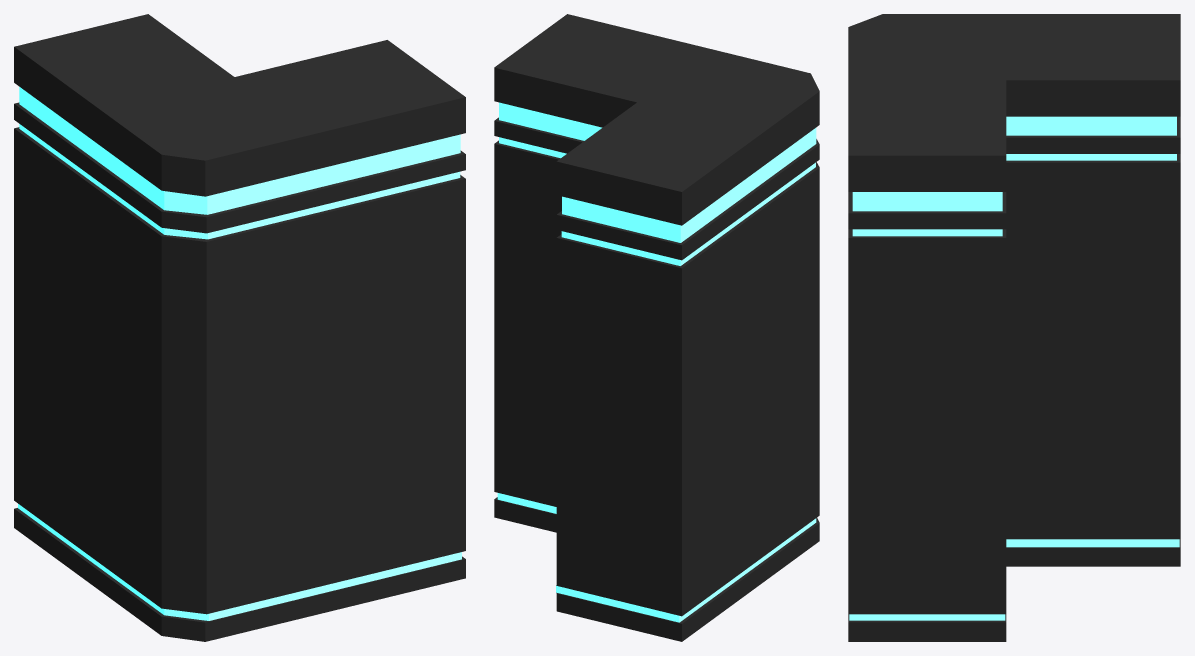
File: Ledge.fbx
3 renders of one model, left to right at view 1: azimuth 30°, elevation 25°; view 2: azimuth 150°, elevation 25°; view 3: azimuth 270°, elevation 25°, orthographic. The views are drawn at different scales.
Visible parts, largest first — view 1: Ledge; view 2: Ledge; view 3: Ledge.
Boxes of the visible parts, <box> form: Ledge: <box>14,14,465,641</box>; Ledge: <box>494,14,819,641</box>; Ledge: <box>848,14,1180,641</box>.
Bounding box in the file's own units: 408 × 405 × 654.
